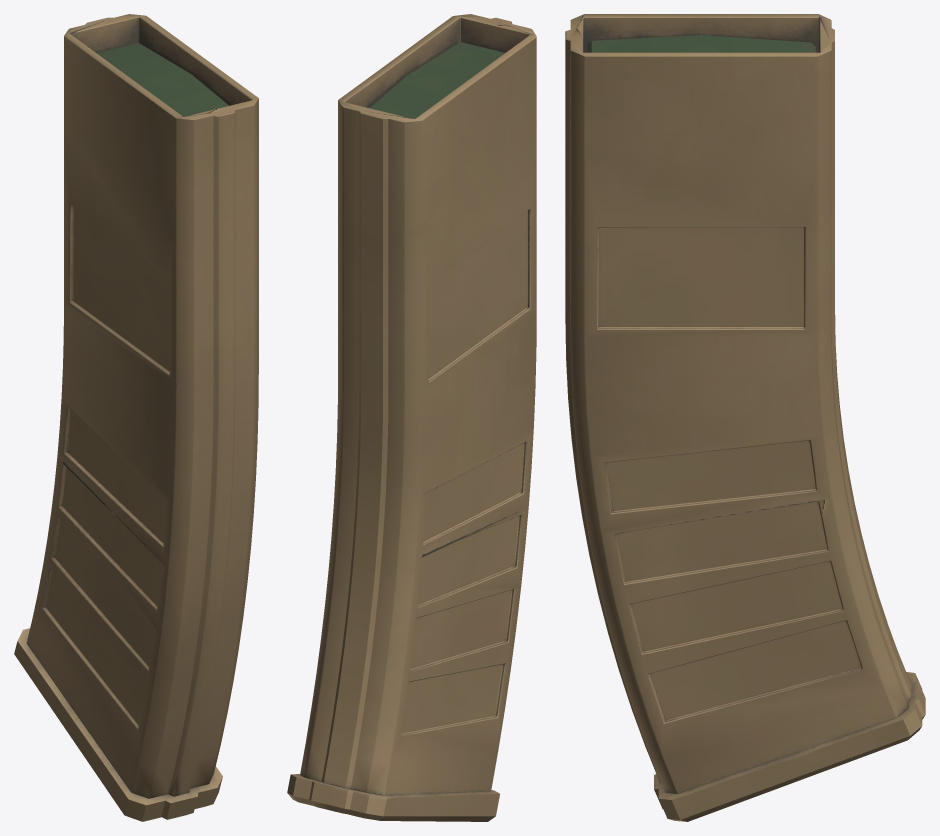
File: carregador_556_30_tan.glb
3 views of the same model, side by side, from view 1: azimuth 30°, elevation 25°; view 2: azimuth 150°, elevation 25°; view 3: azimuth 270°, elevation 25° (orthographic). The views are drawn at different scales.
Parts seen in each view (by area): view 1: carregador_556_30_tan_carregador; view 2: carregador_556_30_tan_carregador; view 3: carregador_556_30_tan_carregador.
Part boxes in pixels (x1,y1,x2,y2): carregador_556_30_tan_carregador: (14,14,258,821); carregador_556_30_tan_carregador: (287,14,536,821); carregador_556_30_tan_carregador: (565,14,925,821).
Size of the model in its own units: 0.0264 by 0.1977 by 0.0836.
1 material, 1 textured.
